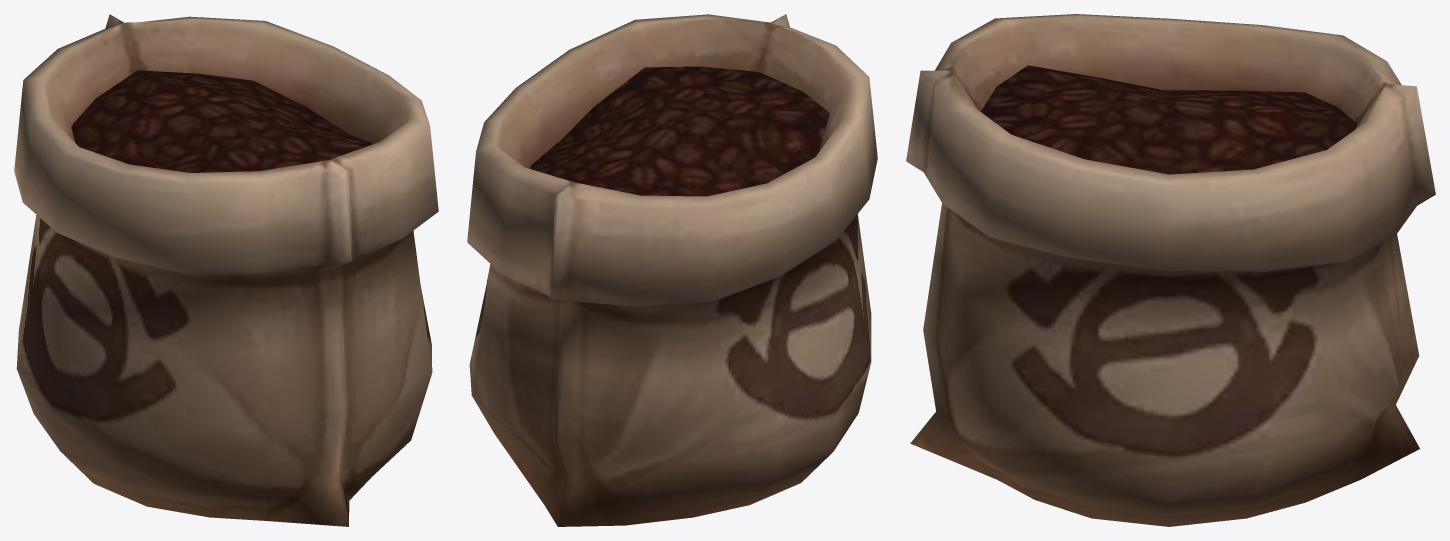
The picture shows the model from 3 angles, left to right: view 1: azimuth 30°, elevation 25°; view 2: azimuth 150°, elevation 25°; view 3: azimuth 270°, elevation 25°; orthographic projection. The views are drawn at different scales.
Size of the model in its own units: 0.5958 by 0.605 by 0.7493.
Materials: 1 (1 with a texture image).
